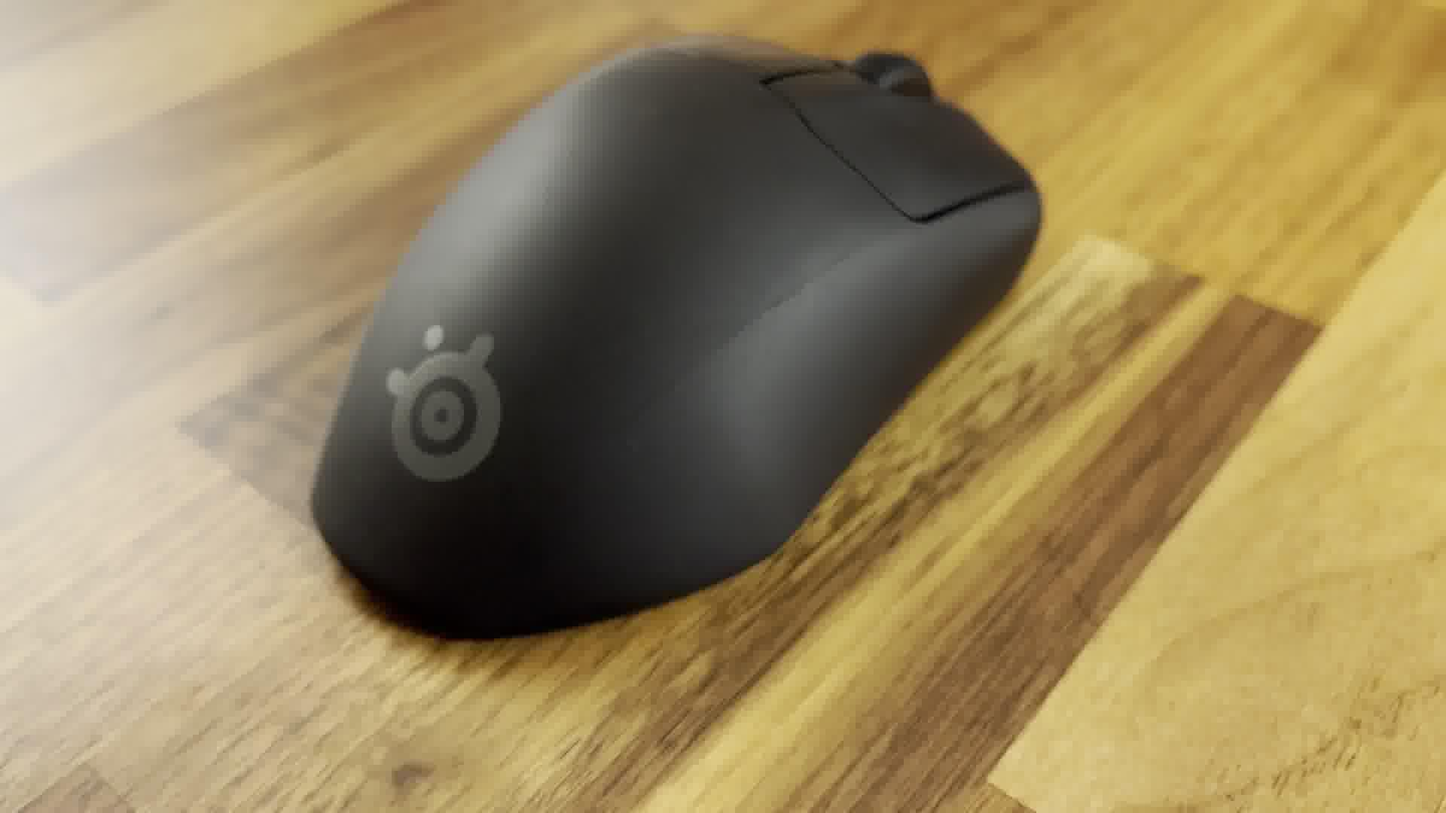mouse: (303, 24, 1048, 647)
